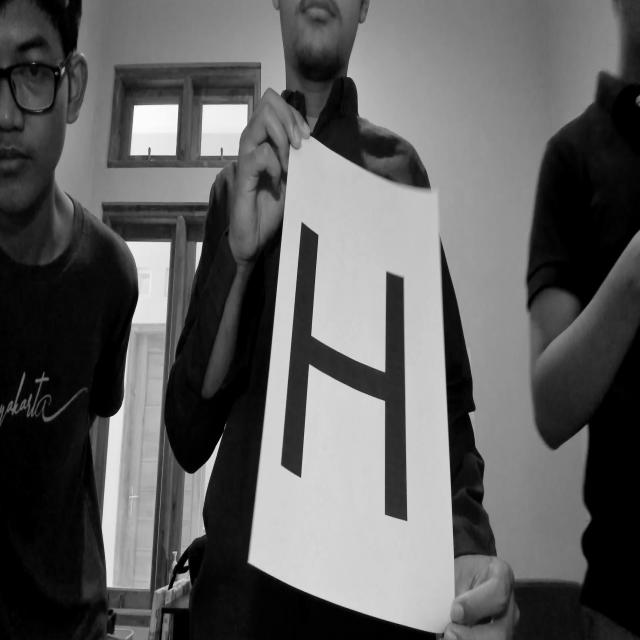h: (266, 207, 428, 540)
